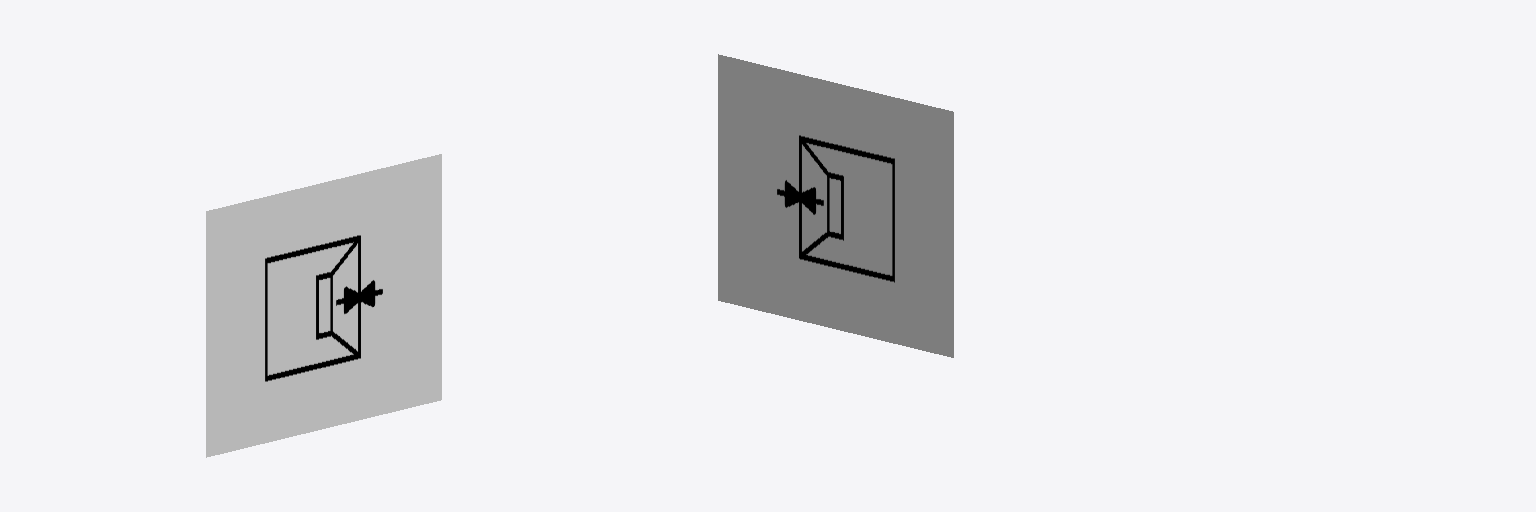
3 renders of one model, left to right at view 1: azimuth 30°, elevation 25°; view 2: azimuth 150°, elevation 25°; view 3: azimuth 270°, elevation 25°, orthographic.
Visible parts, largest first — view 1: Mesh; view 2: Mesh; view 3: none.
Boxes of the visible parts, x1=… form: Mesh: x1=206, y1=154, x2=441, y2=457; Mesh: x1=718, y1=54, x2=953, y2=357.
Bounding box in the file's own units: 50 × 50 × 50.
2 materials, 2 textured.